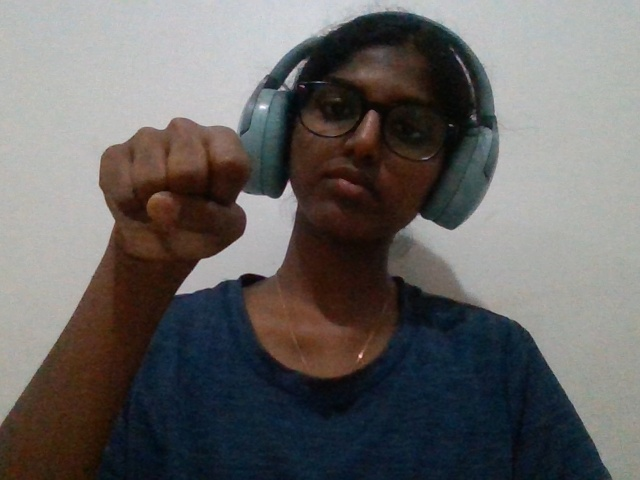Yes: (66, 98, 282, 345)
